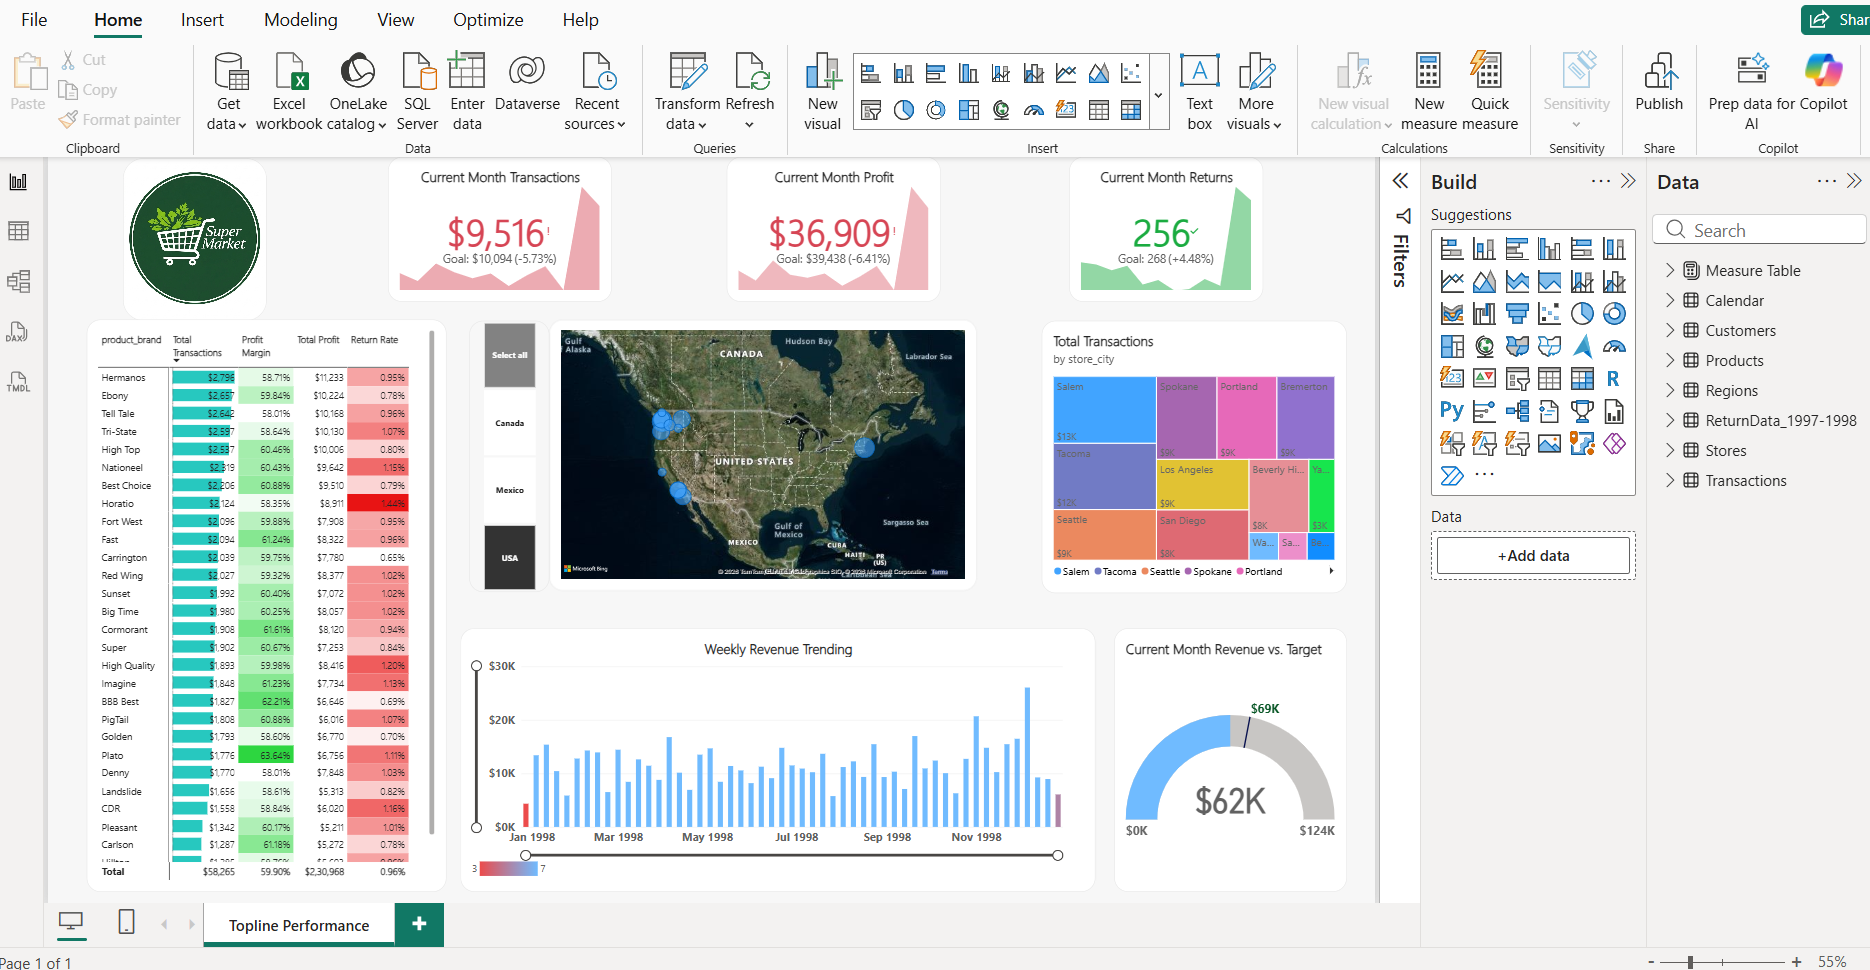

This screenshot's page, from the dashboard's own definition file:
{"tool":"powerbi","page":{"name":"Topline Performance","canvas":[1920,1080],"ordinal":0},"visuals":[{"type":"image","box":[108.6,1.8,208.1,235.3],"z":0},{"type":"pivotTable","fields":{"Rows":["Products.product_brand"],"Values":["Measure Table.Total Transactions","Measure Table.Profit Margin","Measure Table.Total Profit","Measure Table.Return Rate"]},"box":[56.1,235.3,521.2,828.8],"z":1},{"type":"kpi","title":"Current Month Transactions","fields":{"Goal":["Measure Table.Last Month Transactions"],"Indicator":["Measure Table.Total Transactions"],"TrendLine":["Calendar.Start of Month"]},"box":[492.2,0,323.9,209.9],"z":2},{"type":"kpi","title":"Current Month Profit","fields":{"Goal":["Measure Table.Last Month Profit"],"Indicator":["Measure Table.Total Profit"],"TrendLine":["Calendar.Start of Month"]},"box":[982.6,0,309.5,209.9],"z":3},{"type":"kpi","title":"Current Month Returns","fields":{"Goal":["Measure Table.Last Month Returns"],"Indicator":["Measure Table.Total Returns"],"TrendLine":["Calendar.Start of Month"]},"box":[1478.5,0,280.5,209.9],"z":4},{"type":"map","fields":{"Category":["Stores.store_city"],"Size":["Measure Table.Total Transactions"]},"box":[725.7,235.3,618.9,392.7],"z":5},{"type":"slicer","fields":{"Values":["Stores.store_country"]},"box":[609.9,237.1,115.8,392.7],"z":6},{"type":"treemap","fields":{"Group":["Stores.store_country","Stores.store_state","Stores.store_city","Stores.store_location Hierarchy.store_country","Stores.store_location Hierarchy.store_state","Stores.store_location Hierarchy.store_city"],"Values":["Measure Table.Total Transactions"]},"box":[1438.7,237.1,441.6,394.5],"z":7},{"type":"columnChart","title":"Weekly Revenue Trending","fields":{"Category":["Calendar.Start of Week"],"Y":["Measure Table.Total Revenue"]},"box":[597.2,682.2,919.3,381.8],"z":8},{"type":"gauge","title":"Current Month Revenue vs. Target","fields":{"TargetValue":["Measure Table.Revenue Target"],"Y":["Measure Table.Total Revenue"]},"box":[1543.6,682.2,336.6,381.8],"z":9}]}

Visuals, with their boxes on the page's 1920x1080 design canvas (x1, y1, x2, y2). These are canvas units, not pixel positions in the 1870x970 screenshot, which may show the page scaled, cropped or inside an application window:
image: 109,2,317,237
pivotTable - Products.product_brand x Measure Table.Total Transactions: 56,235,577,1064
"Current Month Transactions" kpi: 492,0,816,210
"Current Month Profit" kpi: 983,0,1292,210
"Current Month Returns" kpi: 1478,0,1759,210
map - Stores.store_city x Measure Table.Total Transactions: 726,235,1345,628
slicer - Stores.store_country: 610,237,726,630
treemap - Stores.store_country x Stores.store_state: 1439,237,1880,632
"Weekly Revenue Trending" columnChart: 597,682,1516,1064
"Current Month Revenue vs. Target" gauge: 1544,682,1880,1064
